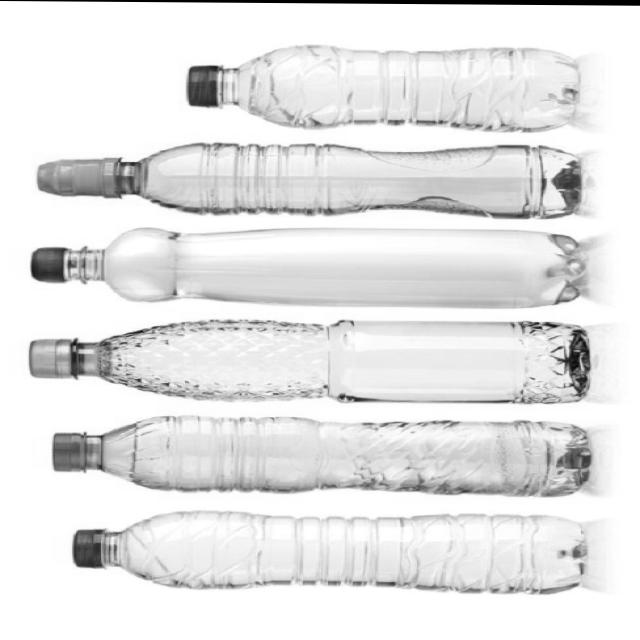bottle: (46, 409, 595, 503), (23, 316, 586, 404), (68, 504, 590, 597), (30, 224, 586, 307), (34, 138, 586, 219), (182, 42, 579, 134)
